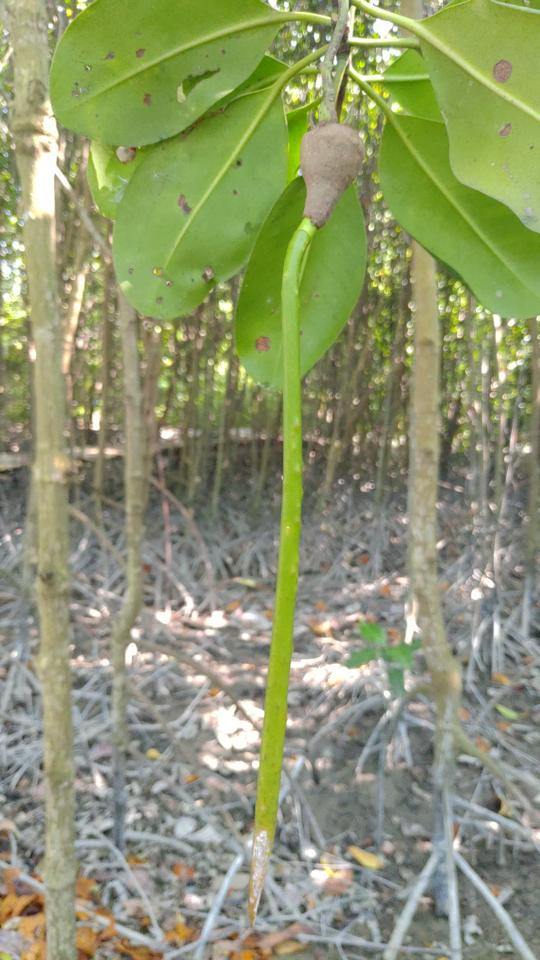setengah matang: (235, 93, 378, 932)
